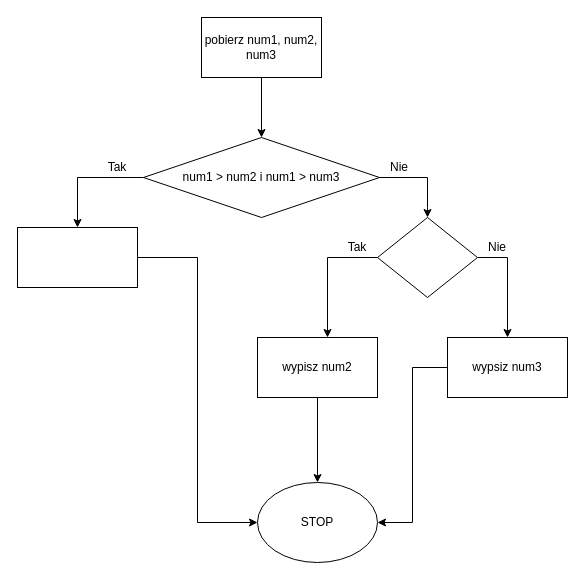
This 585x580 diagram has some shape labels left out. The centre of each missing label's shape, as x and y in pixels:
"num2 > num3" belongs at (x=427, y=257).
"wypisz num1" belongs at (x=77, y=257).
